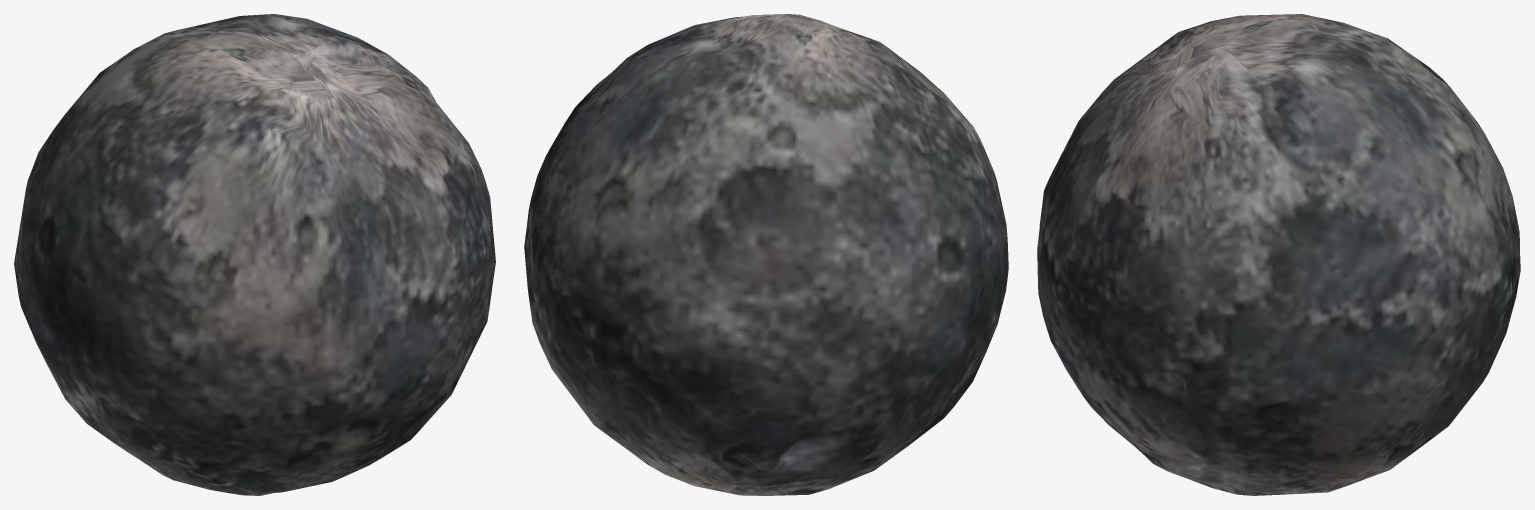
The model's file is planet_5-lod.glb.
The picture shows the model from 3 angles, left to right: view 1: azimuth 30°, elevation 25°; view 2: azimuth 150°, elevation 25°; view 3: azimuth 270°, elevation 25°; orthographic projection.
Parts seen in each view (by area): view 1: Mesh_0.001; view 2: Mesh_0.001; view 3: Mesh_0.001.
Boxes of the visible parts, box(x1,y1,x2,y2) form: Mesh_0.001: box(14, 14, 495, 495); Mesh_0.001: box(524, 14, 1008, 495); Mesh_0.001: box(1037, 14, 1520, 495).
Size of the model in its own units: 1.9 by 1.9 by 1.9.
Materials: 1 (1 with a texture image).
